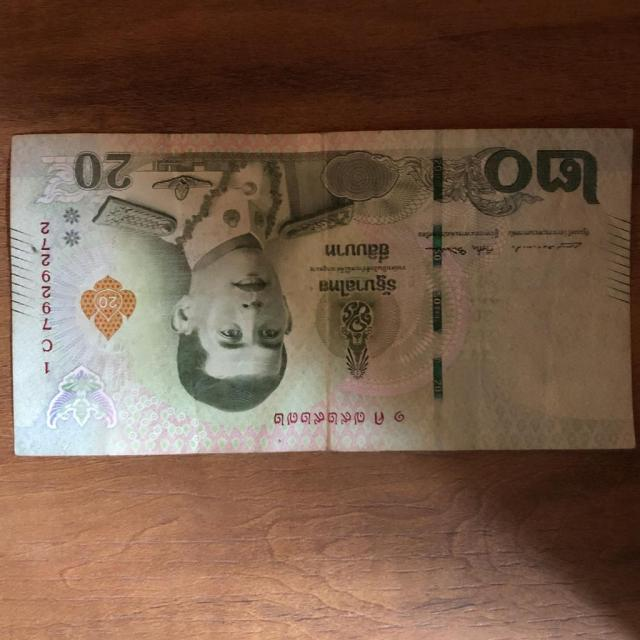THAI20: (7, 124, 638, 462)
